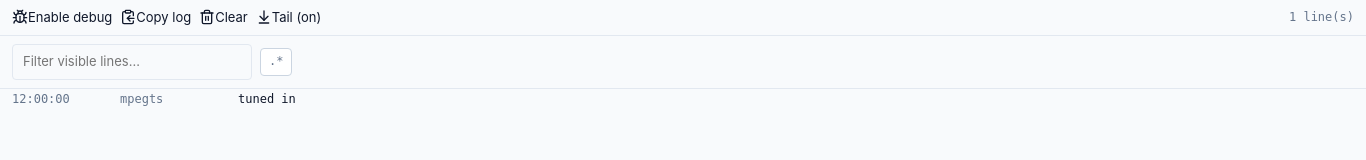
Test: LogView — clear filters › shows the Clear-filters button when text filter is active
Type "x" into the search field with placeholder "Filter visible lines…".
click(132, 62); type("x")  # box [12,44,252,80]
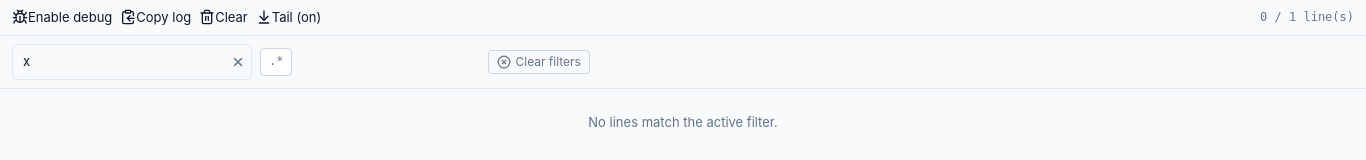
Expected: the button with class "log-view__clear-filters" is shown, [488,50,590,74]
